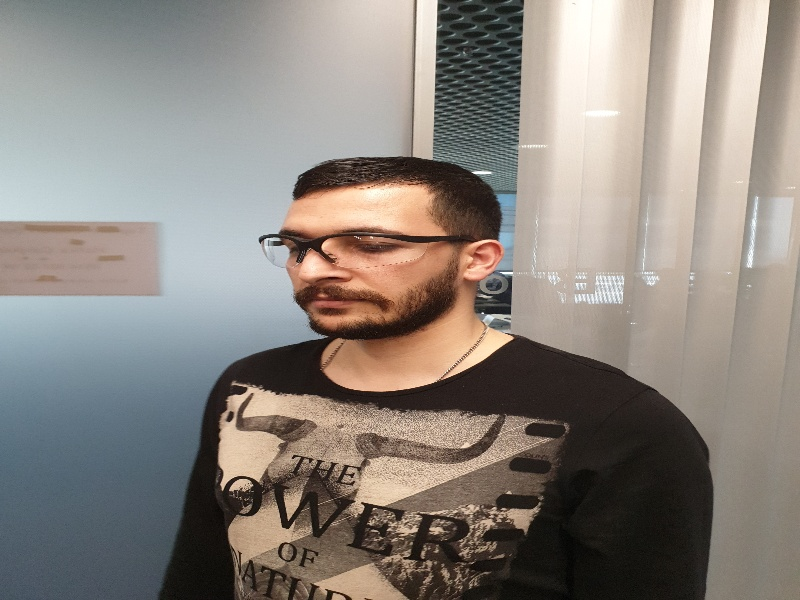Gozluk: (258, 233, 483, 269)
